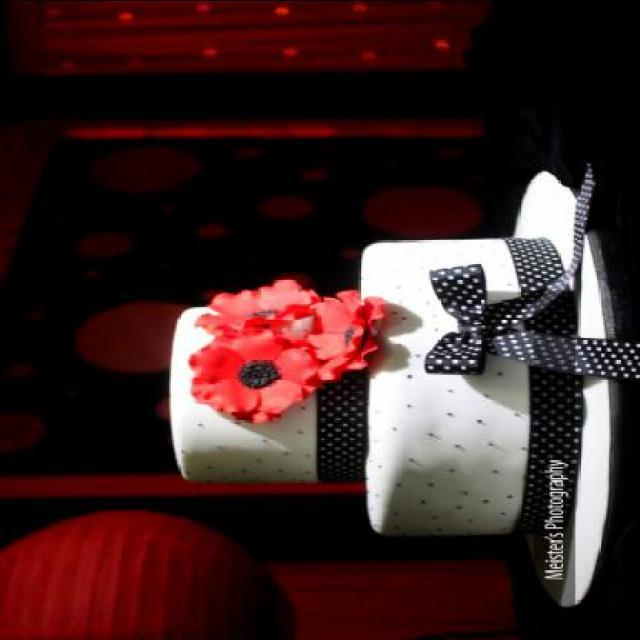Cake: (166, 238, 580, 536)
